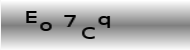7: (63, 13, 77, 28)
C: (80, 25, 96, 40)
E: (24, 9, 38, 24)
o: (38, 20, 53, 33)
q: (97, 13, 112, 29)
